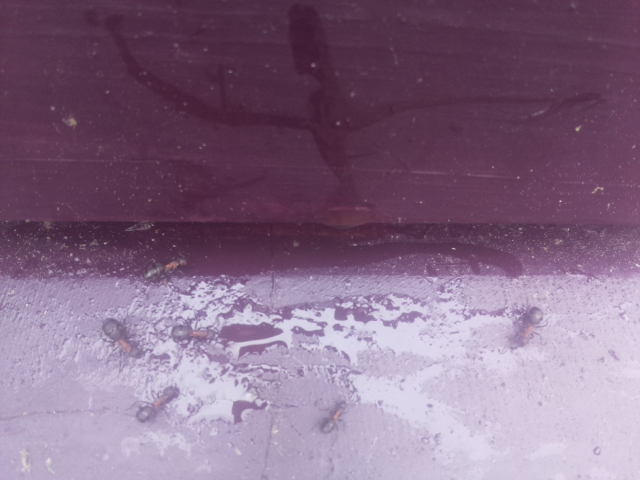ant: (128, 371, 187, 433), (504, 297, 551, 356), (93, 312, 145, 363), (136, 256, 193, 283), (173, 319, 215, 346)
